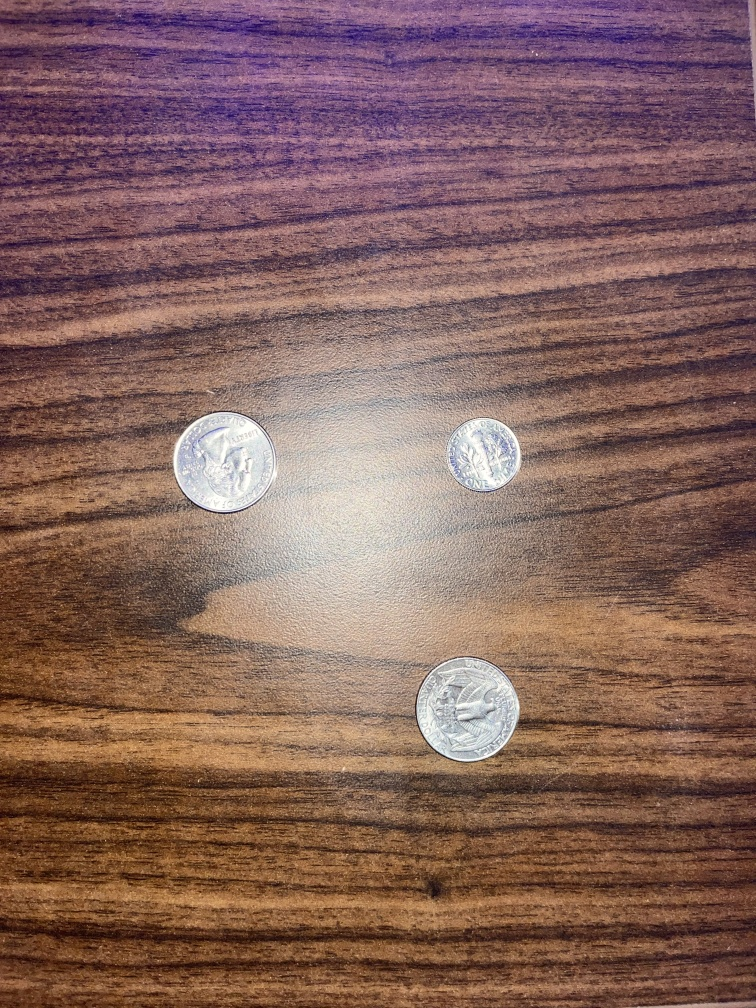dime: (442, 412, 529, 502)
quarter: (168, 406, 283, 521), (412, 652, 525, 763)
